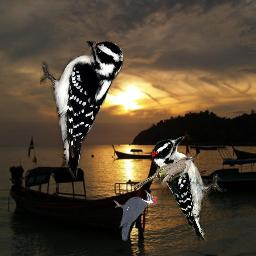Cuckoo: (132, 156, 195, 189)
Woodpecker: (40, 41, 124, 181), (151, 136, 227, 241), (113, 190, 157, 241)
